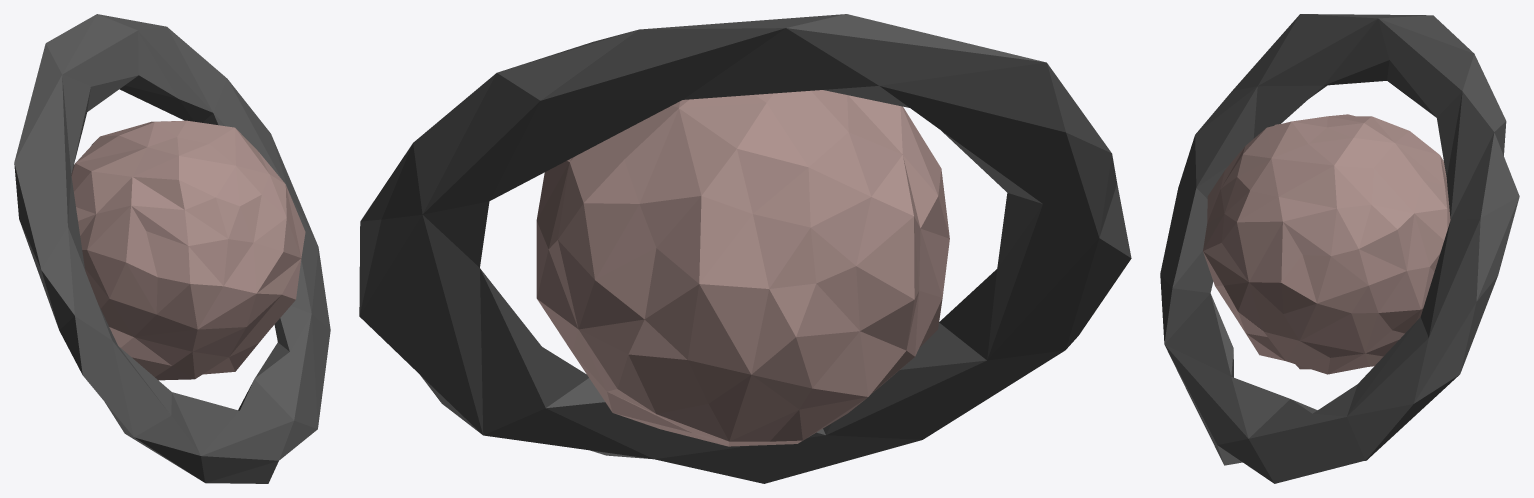
File: ring_planet8.fbx
3 renders of one model, left to right at view 1: azimuth 30°, elevation 25°; view 2: azimuth 150°, elevation 25°; view 3: azimuth 270°, elevation 25°, orthographic. The views are drawn at different scales.
Parts seen in each view (by area): view 1: ring_planet8; view 2: ring_planet8; view 3: ring_planet8.
Part boxes in pixels (x1,y1,x2,y2): ring_planet8: [14, 14, 330, 483]; ring_planet8: [359, 14, 1131, 483]; ring_planet8: [1160, 14, 1519, 483].
Bounding box in the file's own units: 297 × 303 × 251.
